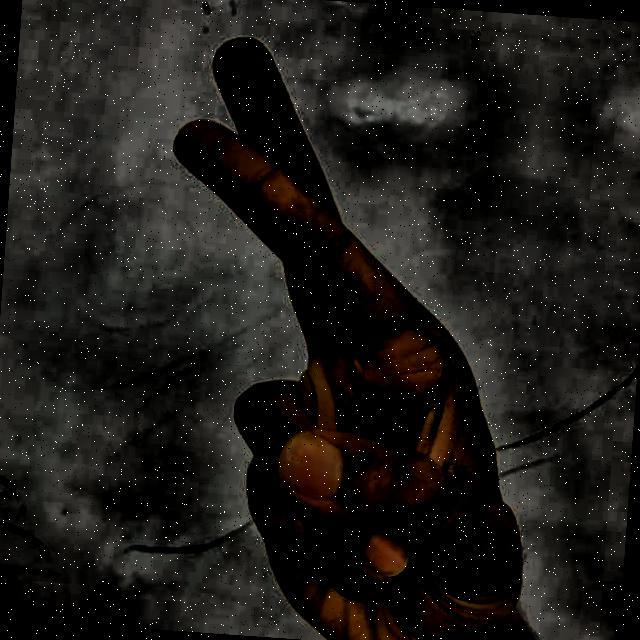Ra: (94, 3, 590, 640)
